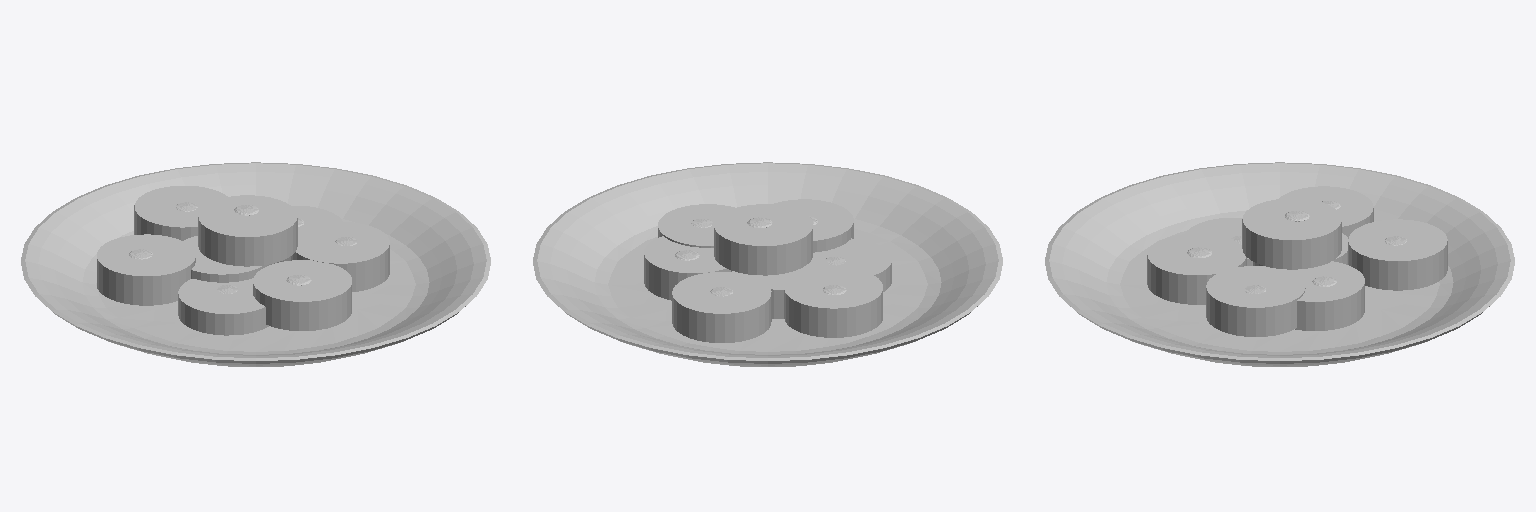
Rendered from kue bingka kentang.obj.
3 renders of one model, left to right at view 1: azimuth 30°, elevation 25°; view 2: azimuth 150°, elevation 25°; view 3: azimuth 270°, elevation 25°, orthographic.
Parts seen in each view (by area): view 1: Cylinder, Cylinder.003, Cylinder.005, Cylinder.008, Cylinder.004, Cylinder.006, Cylinder.007, Cylinder.002, Cylinder.001; view 2: Cylinder, Cylinder.007, Cylinder.008, Cylinder.003, Cylinder.001, Cylinder.005, Cylinder.004, Cylinder.006, Cylinder.002; view 3: Cylinder, Cylinder.003, Cylinder.007, Cylinder.004, Cylinder.005, Cylinder.001, Cylinder.008, Cylinder.006.
Part boxes in pixels (left/top/right/bottom): Cylinder: left=21, top=162, right=490, bottom=366; Cylinder.003: left=198, top=195, right=297, bottom=266; Cylinder.005: left=253, top=260, right=351, bottom=330; Cylinder.008: left=97, top=234, right=195, bottom=305; Cylinder.004: left=291, top=222, right=389, bottom=291; Cylinder.006: left=178, top=278, right=268, bottom=335; Cylinder.007: left=134, top=186, right=227, bottom=240; Cylinder.002: left=184, top=236, right=271, bottom=282; Cylinder.001: left=274, top=206, right=342, bottom=263; Cylinder: left=533, top=162, right=1002, bottom=366; Cylinder.007: left=672, top=272, right=771, bottom=342; Cylinder.008: left=784, top=267, right=882, bottom=337; Cylinder.003: left=714, top=204, right=812, bottom=275; Cylinder.001: left=644, top=236, right=730, bottom=300; Cylinder.005: left=772, top=199, right=853, bottom=252; Cylinder.004: left=658, top=204, right=734, bottom=247; Cylinder.006: left=815, top=238, right=891, bottom=291; Cylinder.002: left=731, top=253, right=829, bottom=318; Cylinder: left=1045, top=162, right=1514, bottom=366; Cylinder.003: left=1242, top=198, right=1341, bottom=269; Cylinder.007: left=1348, top=219, right=1447, bottom=290; Cylinder.004: left=1206, top=266, right=1305, bottom=336; Cylinder.005: left=1147, top=233, right=1246, bottom=304; Cylinder.001: left=1284, top=261, right=1364, bottom=330; Cylinder.008: left=1279, top=186, right=1373, bottom=238; Cylinder.006: left=1185, top=218, right=1252, bottom=265.
Bounding box in the file's own units: 2.31 × 0.446 × 2.31.